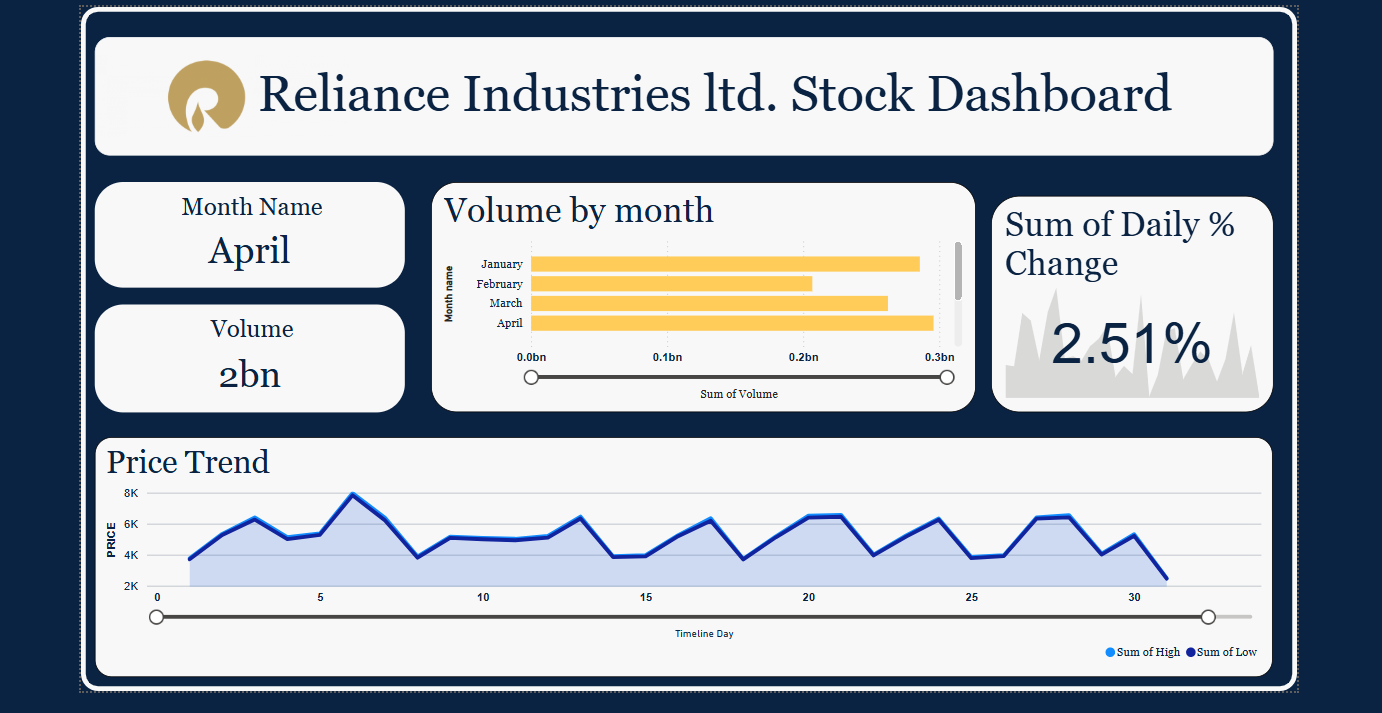

Layout of this report page (visuals, bound fields, positions):
{"tool":"powerbi","page":{"name":"Page 1","canvas":[1280,720],"ordinal":0},"visuals":[{"type":"shape","box":[0,0,1280,720],"z":0},{"type":"lineChart","title":"Price Trend","fields":{"Category":["reliance_stock_data.Date.Variation.Date Hierarchy.Day"],"Y":["Sum(reliance_stock_data.High)","Sum(reliance_stock_data.Low)"]},"box":[14.9,452.8,1240.2,252.5],"z":1000},{"type":"barChart","title":"Volume by month","fields":{"Y":["Sum(reliance_stock_data.Volume)"],"Category":["reliance_stock_data.Date.Variation.Date Hierarchy.Month"]},"box":[368.2,184.1,573.5,242.6],"z":2000},{"type":"kpi","title":"Sum of Daily % Change","fields":{"Indicator":["Sum(reliance_stock_data.Daily % Change)"],"TrendLine":["reliance_stock_data.Date.Variation.Date Hierarchy.Day"]},"box":[957.8,199,297.3,227.6],"z":3000},{"type":"textbox","box":[15.1,31.6,1240.5,124.9],"z":4000},{"type":"card","title":"Month Name","fields":{"Values":["Min(reliance_stock_data.Date.Variation.Date Hierarchy.Month)"]},"box":[15,183.8,326.2,111.2],"z":5000},{"type":"image","box":[0,23.3,288.2,141.3],"z":6000},{"type":"card","title":"Volume","fields":{"Values":["Sum(reliance_stock_data.Volume)"]},"box":[15,312.5,326.2,113.8],"z":7000}]}

Visuals, with their boxes in screenshot pixels (x1, y1, x2, y2):
shape: (83,7,1288,685)
"Price Trend" lineChart: (97,433,1264,671)
"Volume by month" barChart: (429,181,969,409)
"Sum of Daily % Change" kpi: (984,195,1264,409)
textbox: (97,37,1265,155)
"Month Name" card: (97,180,404,285)
image: (83,29,354,162)
"Volume" card: (97,301,404,409)
